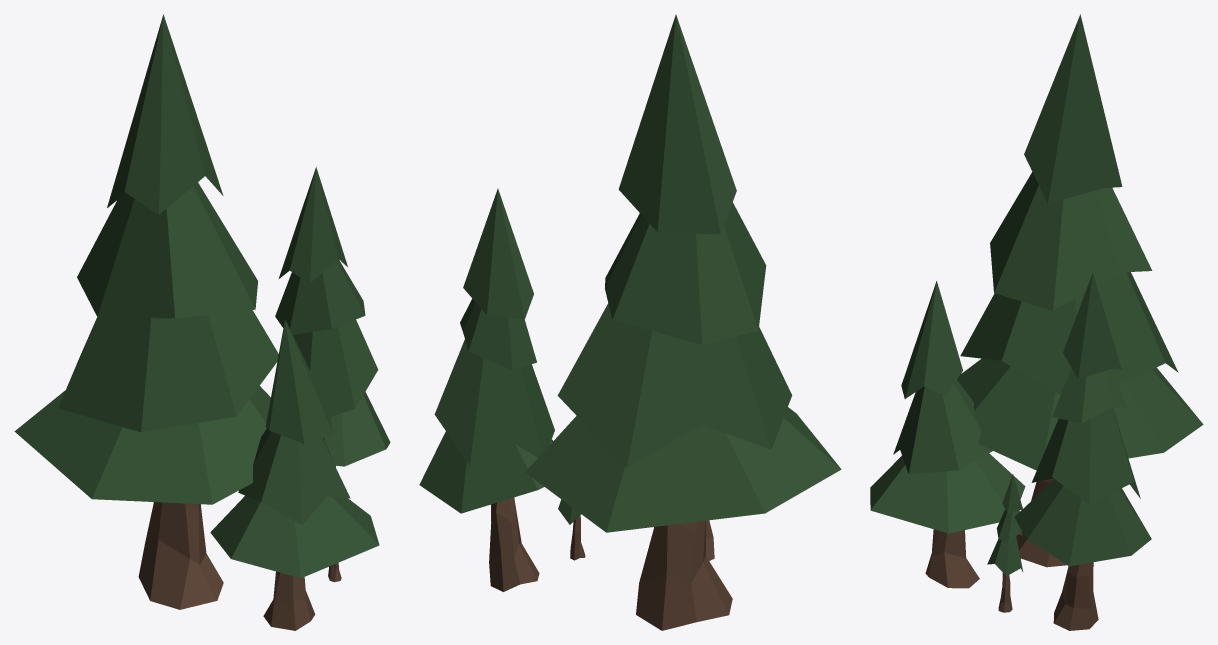
The model's file is tree1.glb.
The picture shows the model from 3 angles, left to right: view 1: azimuth 30°, elevation 25°; view 2: azimuth 150°, elevation 25°; view 3: azimuth 270°, elevation 25°; orthographic projection. The views are drawn at different scales.
Parts seen in each view (by area): view 1: Cone.002, Cone.003, Cone.001, Cone, Cone.004, Trunk, Cone.005, Cone.009, Cone.007, Cone.010, Cone.011, Cone.008 (+1 smaller); view 2: Cone.002, Cone.003, Cone.001, Cone, Cone.009, Trunk, Cone.008, Cone.011, Cone.010, Trunk.002; view 3: Cone.001, Cone.003, Cone.002, Cone, Cone.004, Cone.008, Cone.009, Cone.005, Cone.007, Cone.011, Cone.010, Trunk.002 (+4 smaller).
Part boxes in pixels (x1=…): Cone.002: x1=58, y1=310, x2=278, y2=432; Cone.003: x1=14, y1=386, x2=270, y2=504; Cone.001: x1=77, y1=182, x2=257, y2=318; Cone: x1=107, y1=14, x2=223, y2=214; Cone.004: x1=210, y1=495, x2=379, y2=578; Trunk: x1=138, y1=502, x2=223, y2=609; Cone.005: x1=238, y1=428, x2=350, y2=525; Cone.009: x1=293, y1=319, x2=378, y2=416; Cone.007: x1=265, y1=319, x2=333, y2=443; Cone.010: x1=275, y1=259, x2=365, y2=334; Cone.011: x1=278, y1=167, x2=347, y2=282; Cone.008: x1=322, y1=392, x2=390, y2=466; Cone.002: x1=557, y1=303, x2=792, y2=467; Cone.003: x1=525, y1=407, x2=841, y2=532; Cone.001: x1=605, y1=202, x2=766, y2=344; Cone: x1=618, y1=14, x2=736, y2=234; Cone.009: x1=434, y1=339, x2=554, y2=465; Trunk: x1=636, y1=520, x2=732, y2=630; Cone.008: x1=419, y1=431, x2=552, y2=513; Cone.011: x1=463, y1=188, x2=533, y2=319; Cone.010: x1=460, y1=298, x2=536, y2=370; Trunk.002: x1=489, y1=497, x2=539, y2=591; Cone.001: x1=990, y1=172, x2=1152, y2=310; Cone.003: x1=957, y1=358, x2=1203, y2=470; Cone.002: x1=960, y1=272, x2=1178, y2=394; Cone: x1=1024, y1=14, x2=1122, y2=203; Cone.004: x1=870, y1=453, x2=1025, y2=533; Cone.008: x1=1014, y1=479, x2=1151, y2=566; Cone.009: x1=1031, y1=407, x2=1140, y2=504; Cone.005: x1=893, y1=380, x2=992, y2=474; Cone.007: x1=901, y1=281, x2=962, y2=398; Cone.011: x1=1063, y1=273, x2=1121, y2=378; Cone.010: x1=1052, y1=368, x2=1127, y2=423; Trunk.002: x1=1053, y1=562, x2=1098, y2=630.
Size of the model in its own units: 0.9665 by 1.56 by 0.8772.
